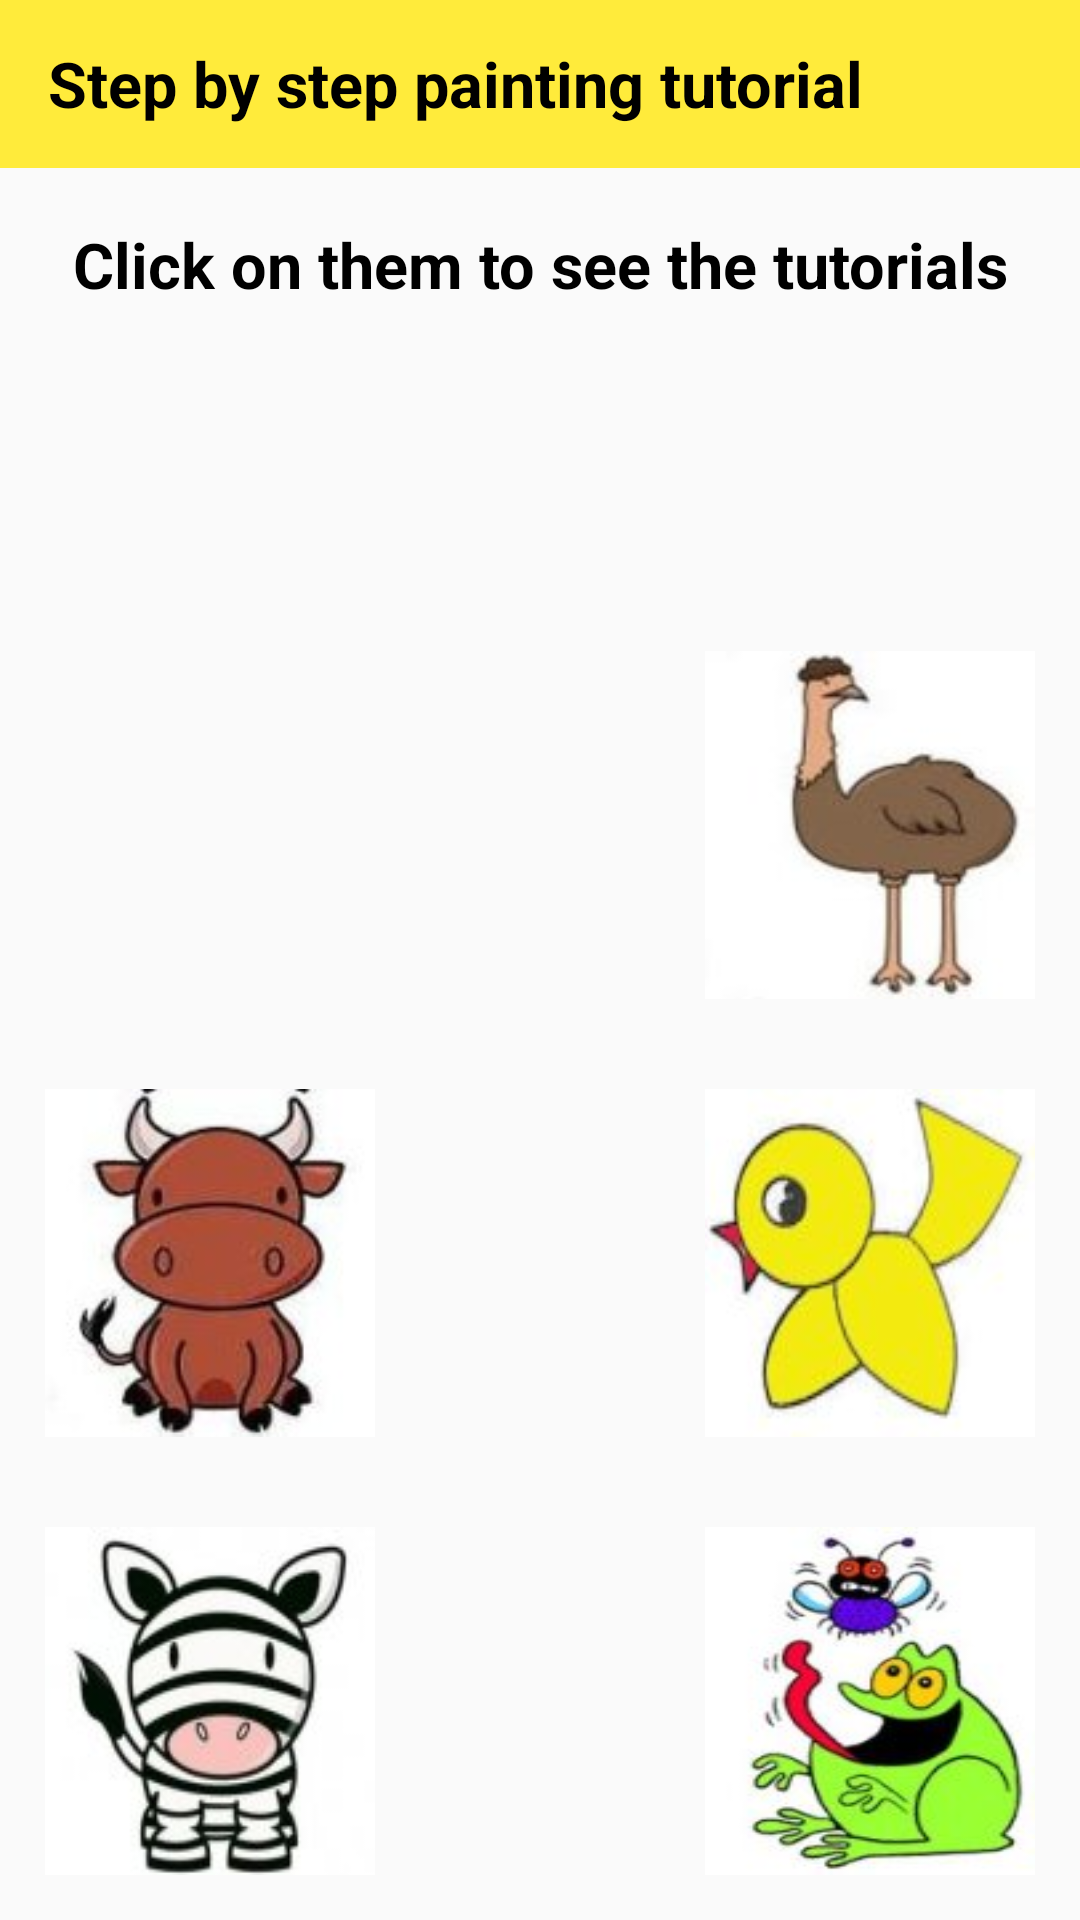

Point at icon controls on the screen. Image size 1080*1920, points as [x,y].
chick: [866,1258]
cow: [213,1262]
frog: [886,1703]
ostrich: [904,824]
zebra: [210,1706]
